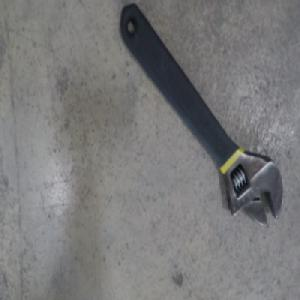AdjustableWrench: (120, 9, 282, 226)
